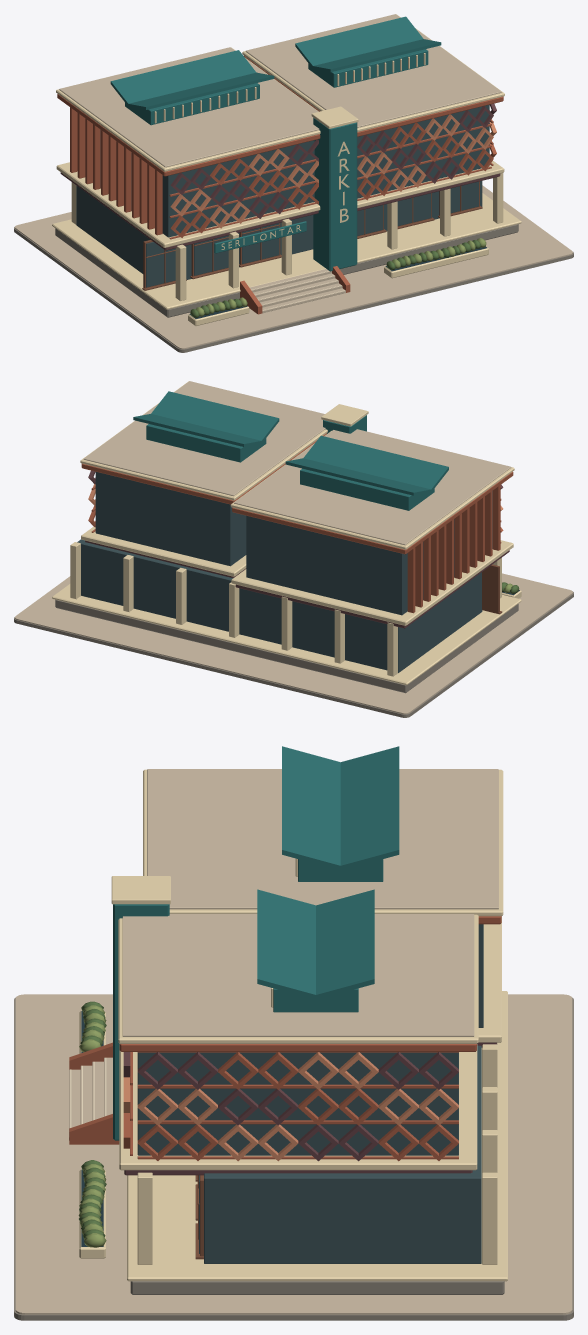
3 renders of one model, top to bottom at view 1: azimuth 30°, elevation 25°; view 2: azimuth 150°, elevation 25°; view 3: azimuth 270°, elevation 25°, orthographic. The views are drawn at different scales.
Visible parts, largest first — view 1: Manuscript Vaults, Reading Arcade, Reading Garden, Archive Lantern, Brise Soleil, Public Stair; view 2: Manuscript Vaults, Reading Arcade, Reading Garden, Archive Lantern, Public Stair; view 3: Manuscript Vaults, Reading Garden, Reading Arcade, Archive Lantern, Brise Soleil, Public Stair.
Boxes of the visible parts, x1=… form: Manuscript Vaults: x1=56, y1=14, x2=504, y2=250; Reading Arcade: x1=52, y1=173, x2=521, y2=317; Reading Garden: x1=14, y1=185, x2=573, y2=352; Archive Lantern: x1=110, y1=16, x2=441, y2=125; Brise Soleil: x1=169, y1=103, x2=496, y2=239; Public Stair: x1=214, y1=106, x2=358, y2=314; Manuscript Vaults: x1=80, y1=381, x2=514, y2=628; Reading Arcade: x1=52, y1=539, x2=521, y2=693; Reading Garden: x1=14, y1=573, x2=573, y2=717; Archive Lantern: x1=133, y1=391, x2=448, y2=510; Public Stair: x1=321, y1=404, x2=368, y2=433; Manuscript Vaults: x1=118, y1=769, x2=503, y2=1175; Reading Garden: x1=14, y1=994, x2=573, y2=1320; Reading Arcade: x1=127, y1=991, x2=507, y2=1294; Archive Lantern: x1=257, y1=746, x2=399, y2=1012; Brise Soleil: x1=123, y1=1052, x2=458, y2=1161; Public Stair: x1=69, y1=876, x2=170, y2=1144.
Bounding box in the file's own units: 29.2 × 12.43 × 21.6.
